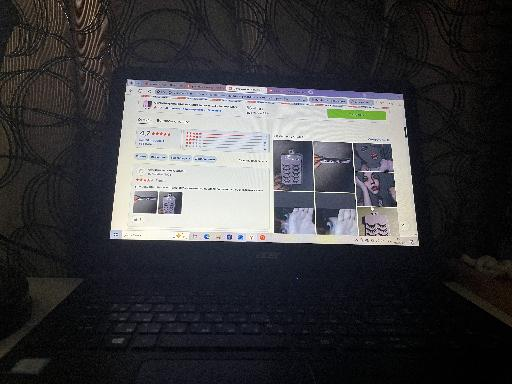aliexpress: (127, 99, 403, 230)
